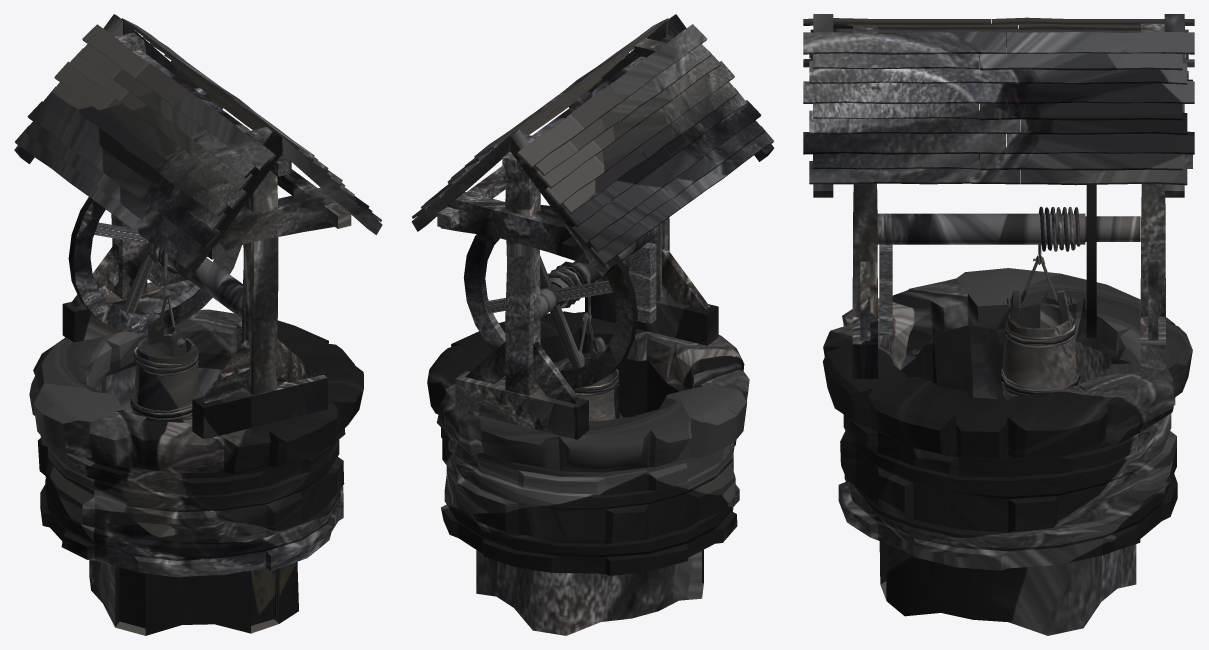
The model's file is well.fbx.
The picture shows the model from 3 angles, left to right: view 1: azimuth 30°, elevation 25°; view 2: azimuth 150°, elevation 25°; view 3: azimuth 270°, elevation 25°; orthographic projection. The views are drawn at different scales.
Parts seen in each view (by area): view 1: blinn4; view 2: blinn4; view 3: blinn4.
Part boxes in pixels (box(x1,y1,x2,y2)): blinn4: box(14, 14, 382, 635); blinn4: box(411, 14, 774, 635); blinn4: box(803, 14, 1194, 635).
Size of the model in its own units: 71698 by 120336 by 74784.
